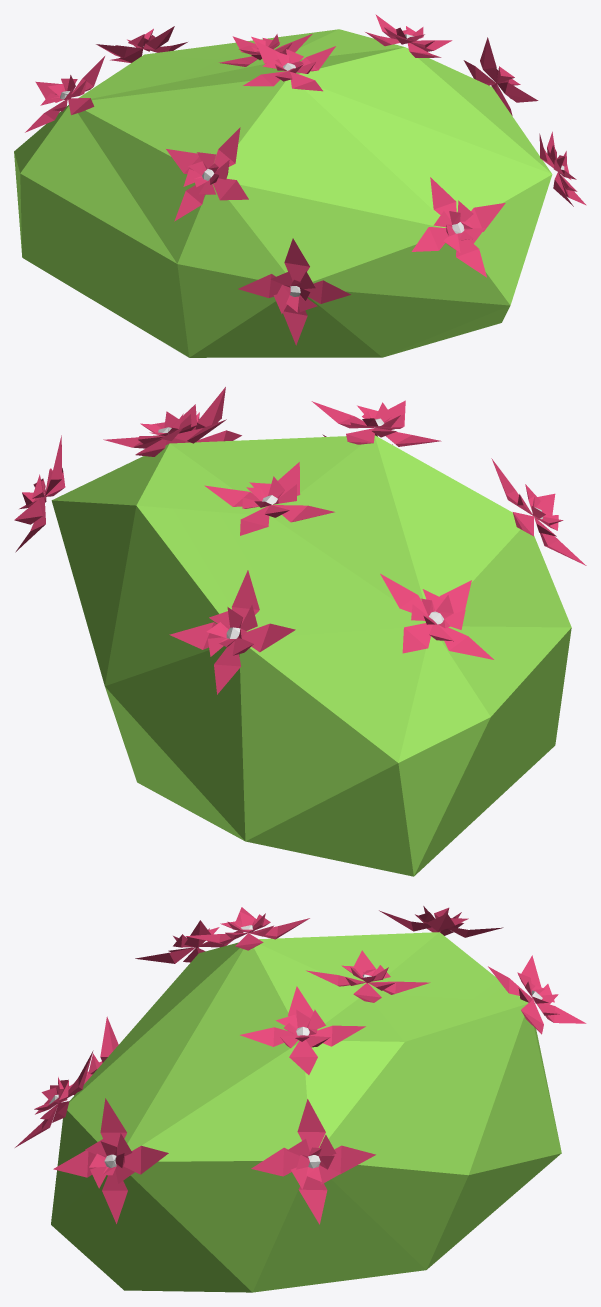
File: bush_06.fbx
3 views of the same model, one above another, from view 1: azimuth 30°, elevation 25°; view 2: azimuth 150°, elevation 25°; view 3: azimuth 270°, elevation 25° (orthographic). The views are drawn at different scales.
Visible parts, largest first — view 1: bush_06; view 2: bush_06; view 3: bush_06.
Part boxes in pixels (x1,y1,x2,y2): bush_06: (14, 14, 586, 357); bush_06: (14, 387, 586, 876); bush_06: (15, 906, 586, 1292).
Bounding box in the file's own units: 46.39 × 27.06 × 47.73.
